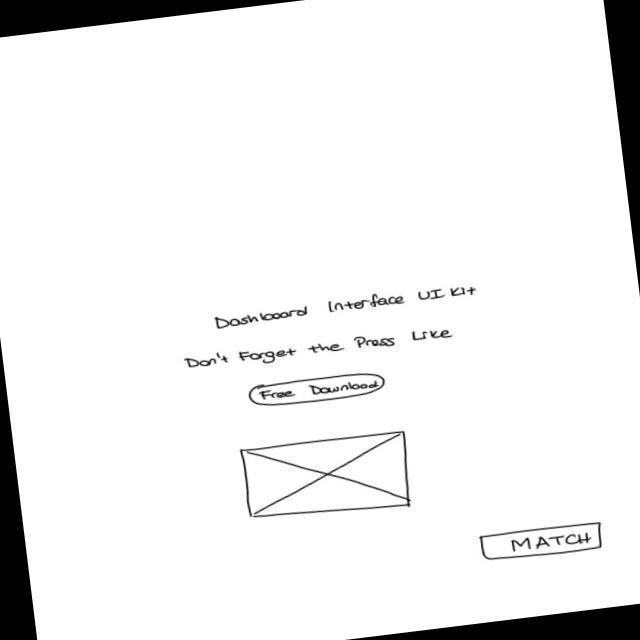button: (246, 369, 390, 412), (477, 520, 607, 565)
label: (239, 428, 415, 530), (182, 322, 456, 376), (212, 281, 481, 332)
